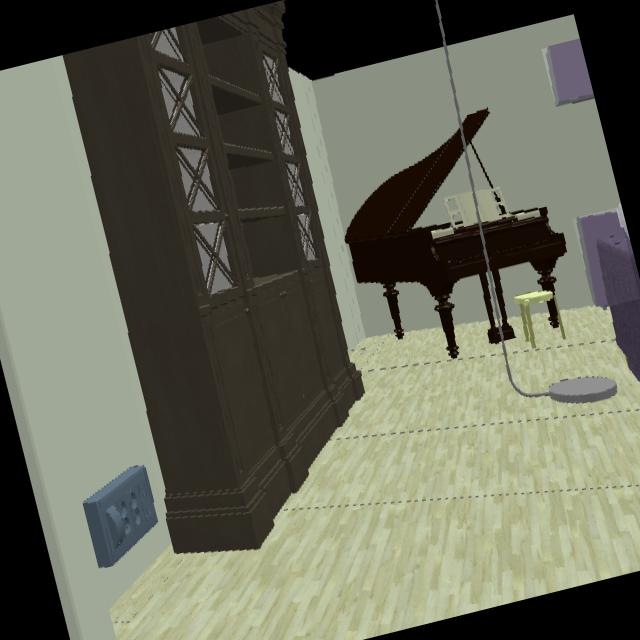bookshelf: (65, 0, 364, 551)
cabinet: (578, 211, 624, 306), (546, 40, 594, 104)
